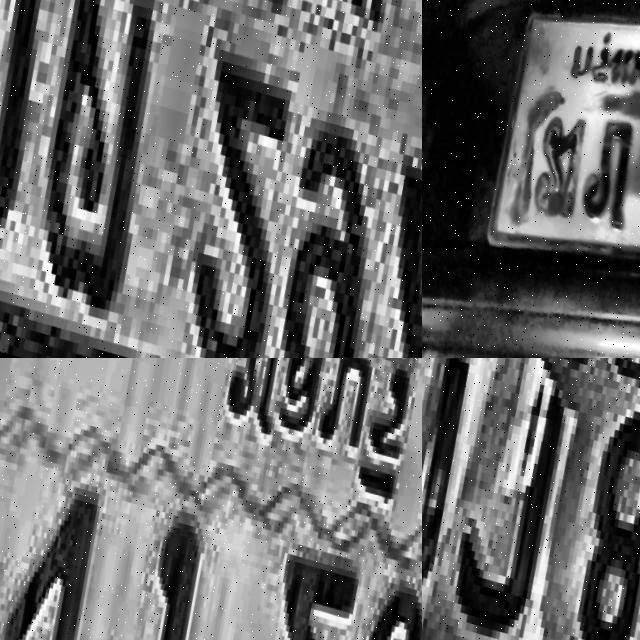license-plate: (0, 0, 422, 358), (0, 358, 422, 640), (422, 358, 640, 640), (486, 12, 640, 242)
